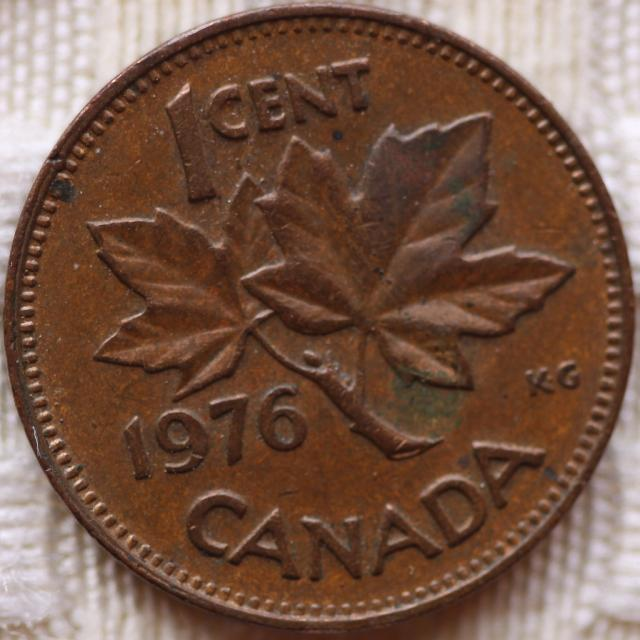Coin: (2, 3, 636, 635)
